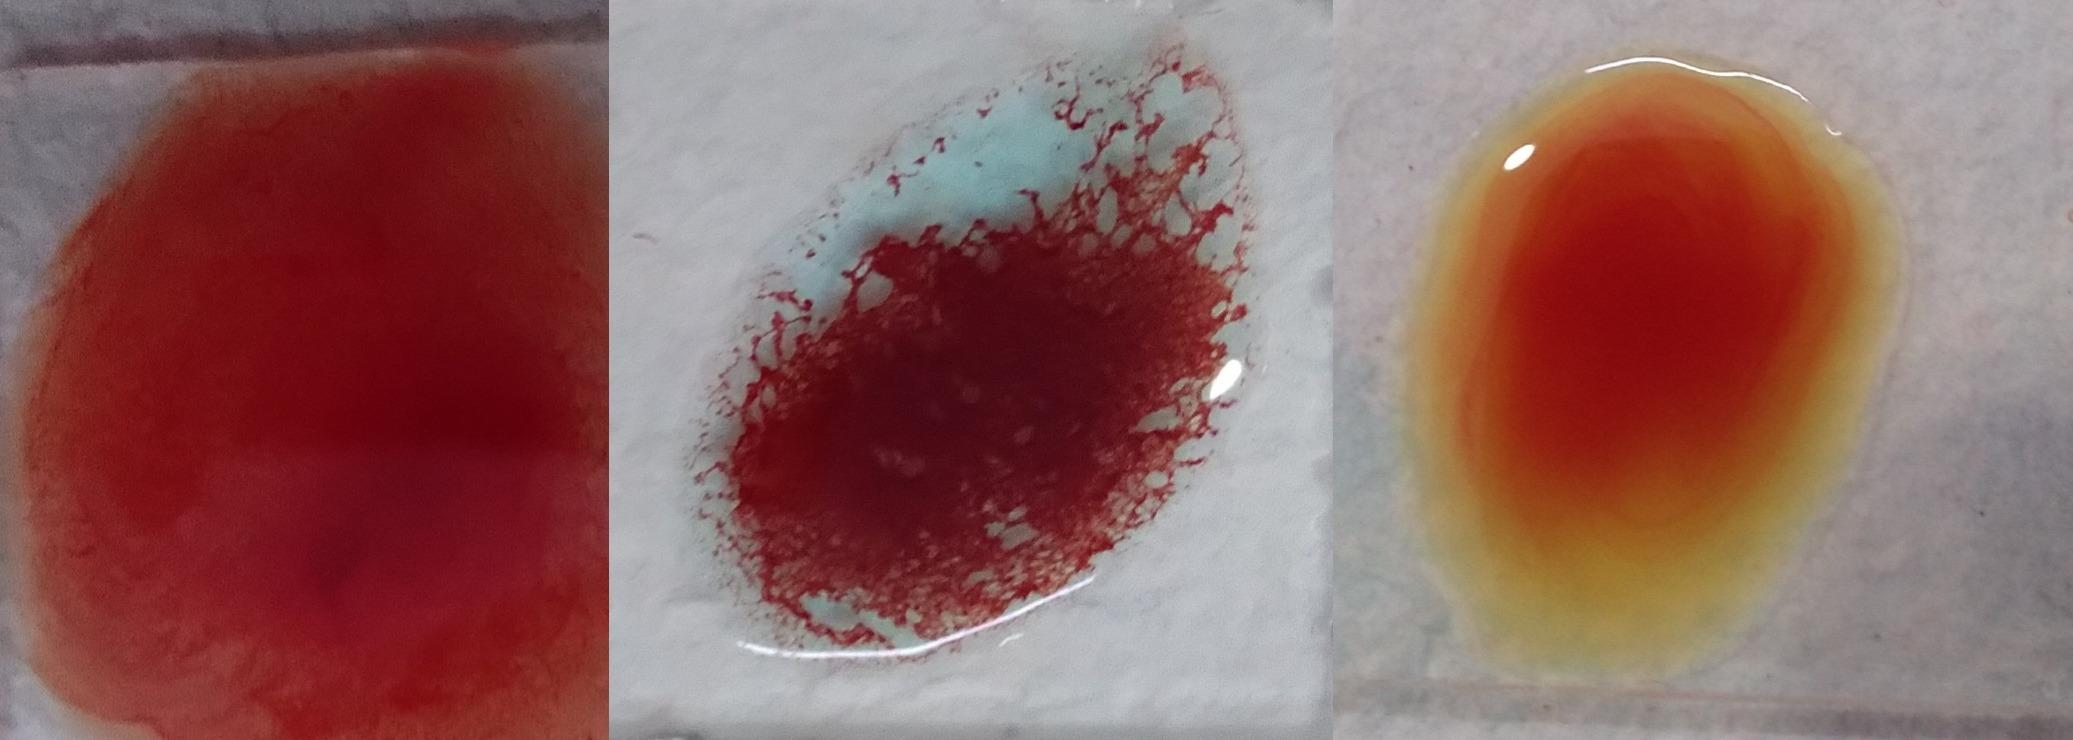A: (705, 30, 1260, 662)
